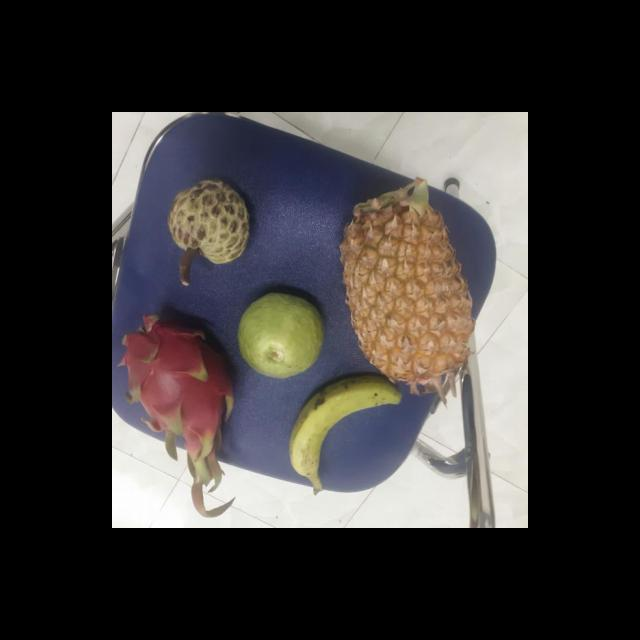Sakya fruit: (168, 178, 256, 266)
banana: (292, 377, 408, 492)
guava: (239, 294, 329, 378)
pineapple: (342, 187, 478, 387)
pitaya: (127, 314, 241, 447)
